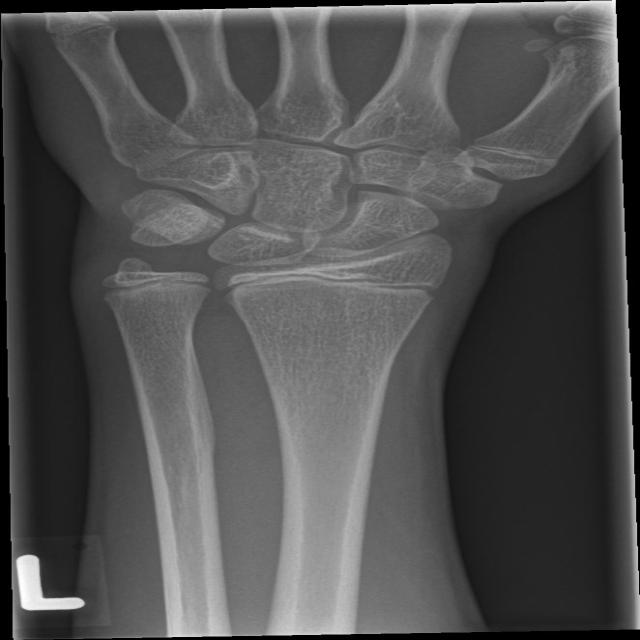fracture: (215, 259, 460, 310), (94, 266, 218, 304)
